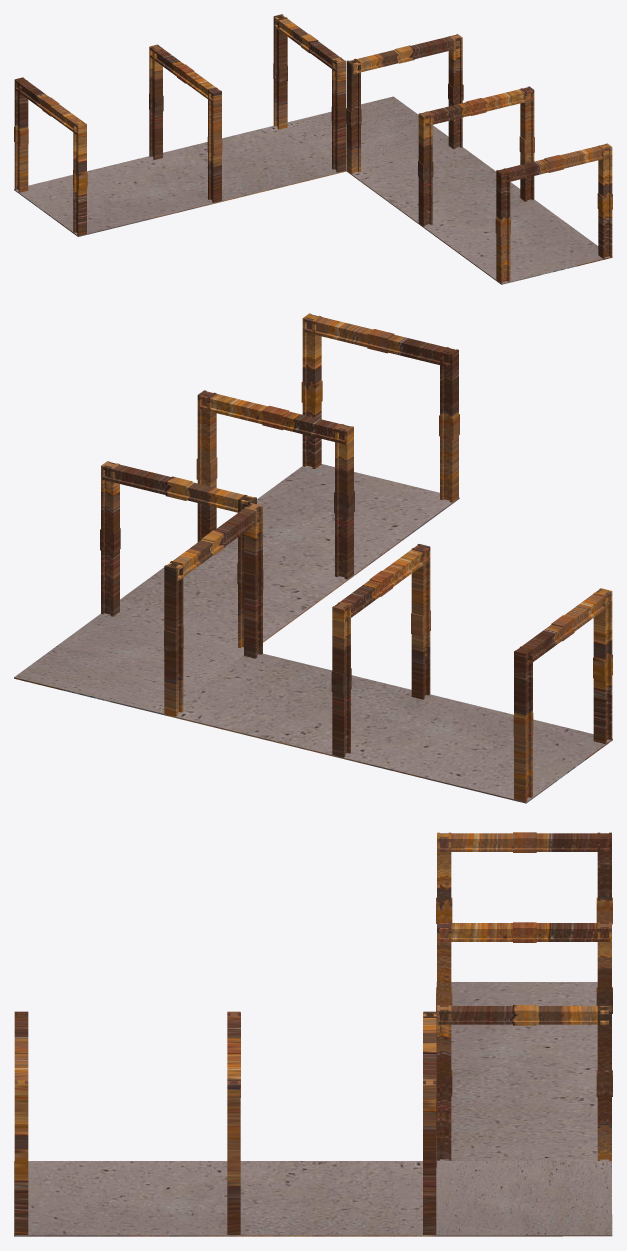
Rendered from SteelFrame2.fbx.
The picture shows the model from 3 angles, top to bottom: view 1: azimuth 30°, elevation 25°; view 2: azimuth 150°, elevation 25°; view 3: azimuth 270°, elevation 25°; orthographic projection. The views are drawn at different scales.
Parts seen in each view (by area): view 1: 平面; view 2: 平面; view 3: 平面.
Boxes of the visible parts, x1,y1,x2,y2 form: 平面: [14, 14, 612, 284]; 平面: [14, 313, 612, 803]; 平面: [14, 832, 612, 1236].
Size of the model in its own units: 2008 by 560 by 2006.
Materials: 1 (1 with a texture image).
